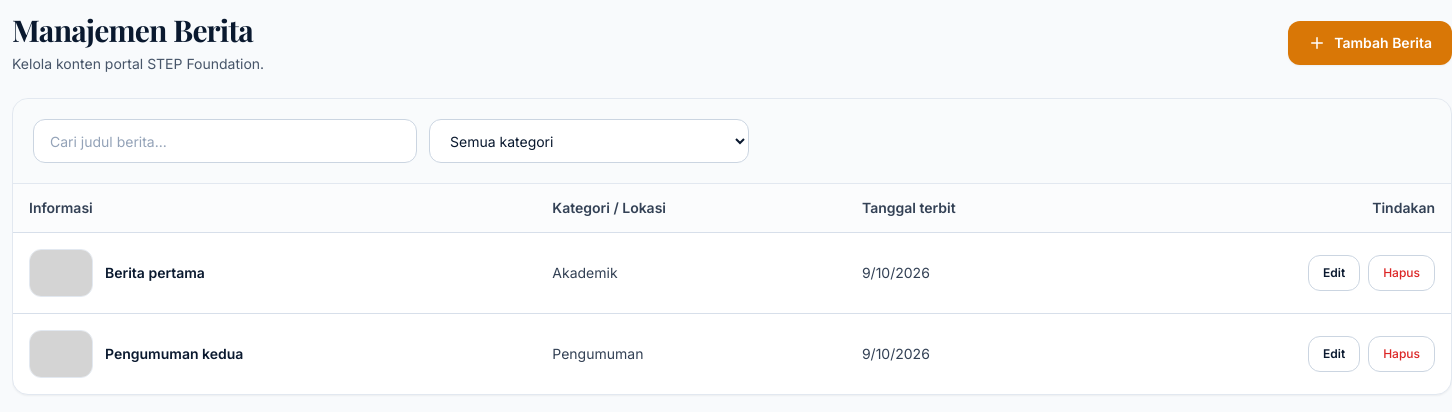
news title search and category filter operate on loaded API data
Expected: the text "Pengumuman kedua" is shown, [105,344,243,364]
Type "kedua" into the field named "Cari Berita" at [225, 141], box [33,119,417,163]
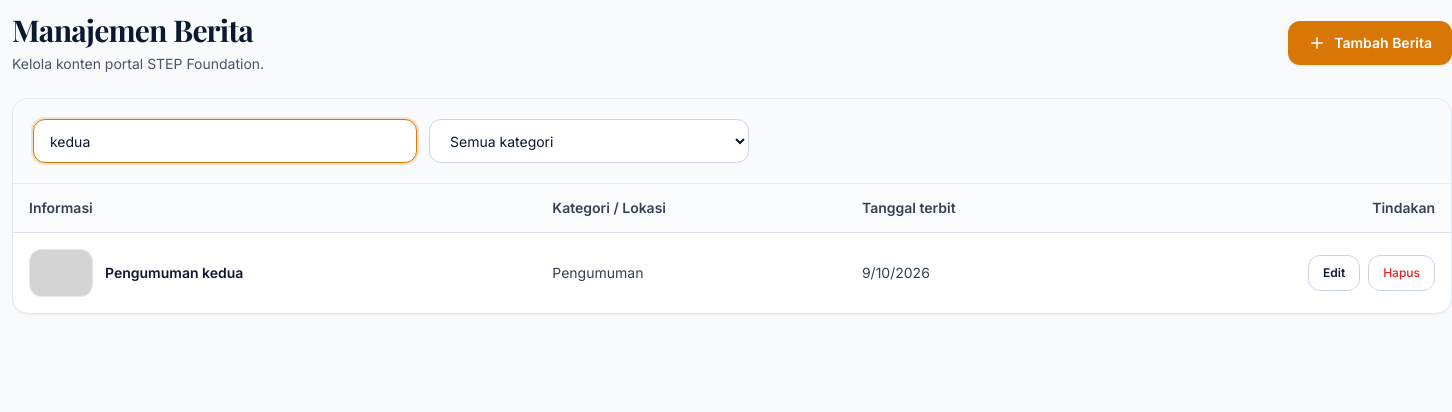
Result: the text "Berita pertama" is gone
Clear the field named "Cari Berita" at [225, 141], box [33,119,417,163]
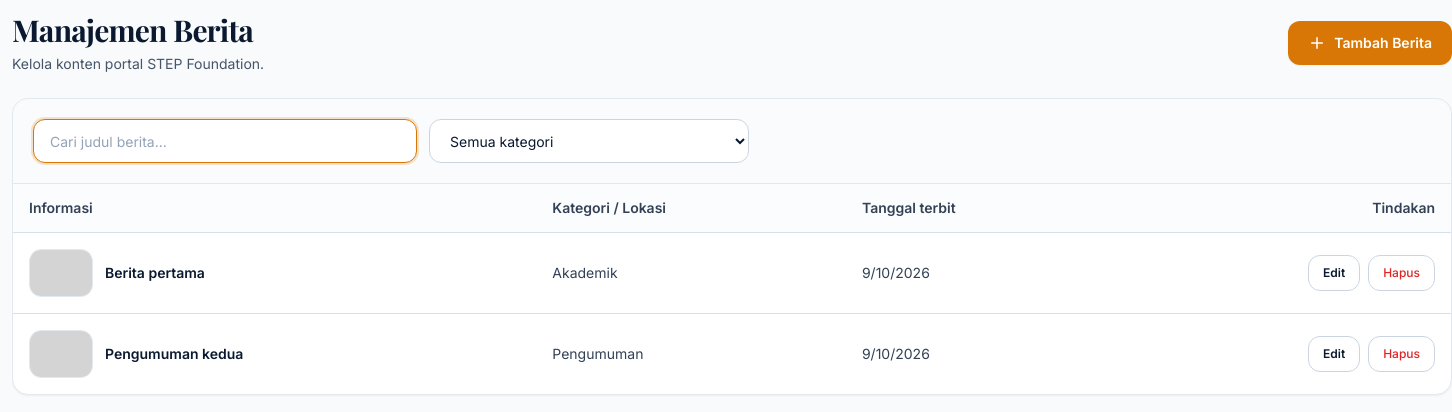
Select "Akademik" in the dropdown named "Filter category" at [589, 141], box [429,119,749,163]
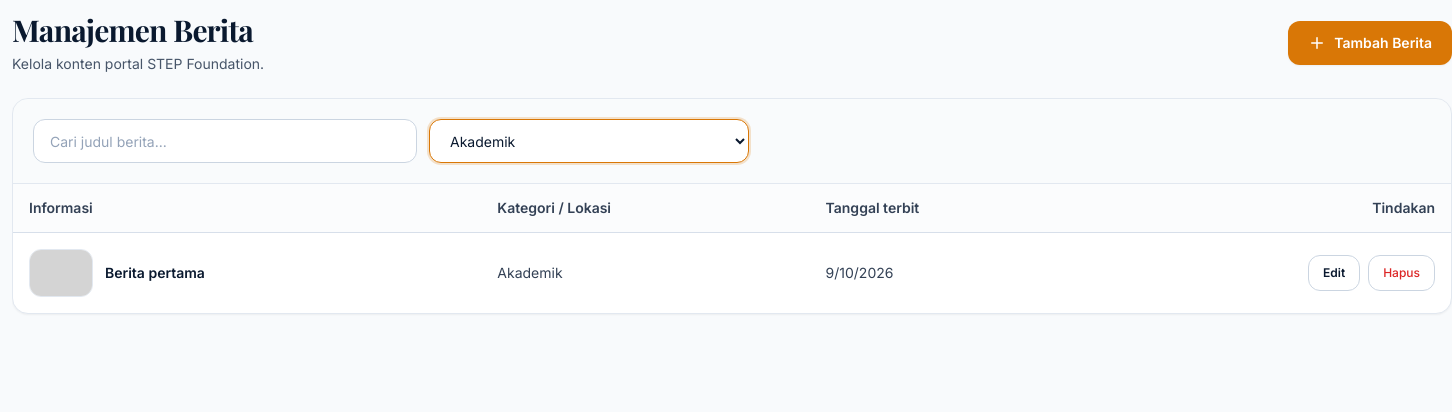
Result: the text "Berita pertama" is shown at [105,262,205,282]
Result: the text "Pengumuman kedua" is gone
